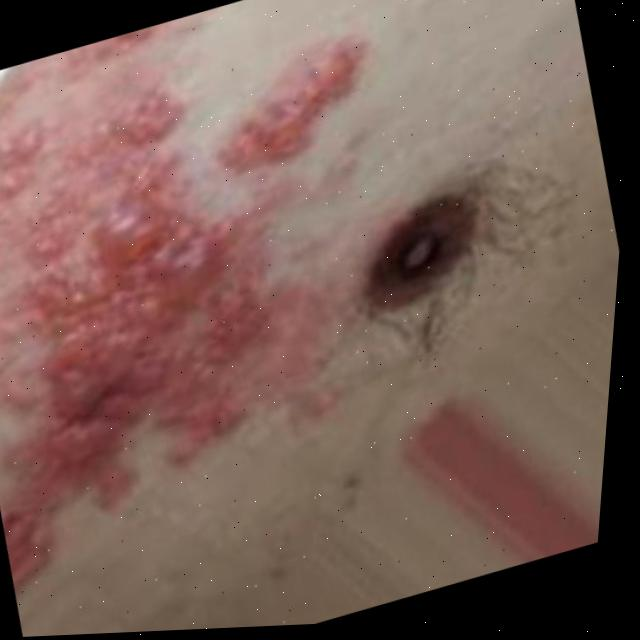Shingles: (0, 18, 279, 565), (190, 36, 374, 188)
